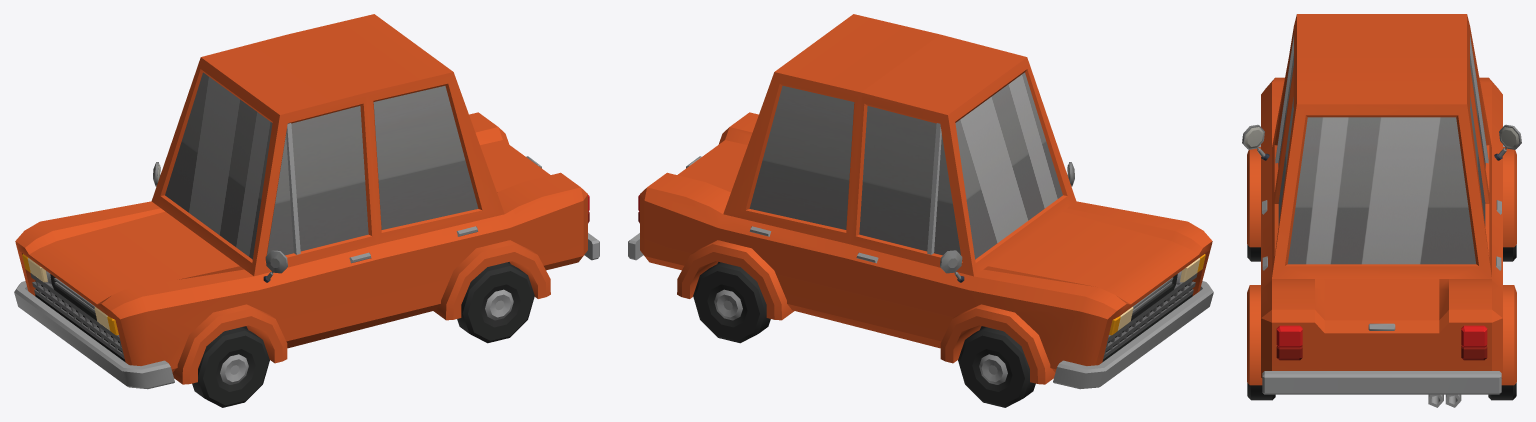
The model's file is Car_4_1_S.gltf.
The picture shows the model from 3 angles, left to right: view 1: azimuth 30°, elevation 25°; view 2: azimuth 150°, elevation 25°; view 3: azimuth 270°, elevation 25°; orthographic projection. The views are drawn at different scales.
Visible parts, largest first — view 1: Car_4_1_S, RL, FL; view 2: Car_4_1_S, RR, FR; view 3: Car_4_1_S, RL, RR.
Boxes of the visible parts, x1=… form: Car_4_1_S: x1=14, y1=14, x2=599, y2=389; RL: x1=457, y1=262, x2=534, y2=343; FL: x1=192, y1=327, x2=269, y2=407; Car_4_1_S: x1=628, y1=14, x2=1213, y2=389; RR: x1=693, y1=262, x2=770, y2=343; FR: x1=958, y1=327, x2=1035, y2=407; Car_4_1_S: x1=1242, y1=14, x2=1521, y2=407; RL: x1=1247, y1=383, x2=1275, y2=400; RR: x1=1488, y1=383, x2=1516, y2=400.
Bounding box in the file's own units: 3.53 × 1.81 × 1.65.
4 materials, 4 textured.
